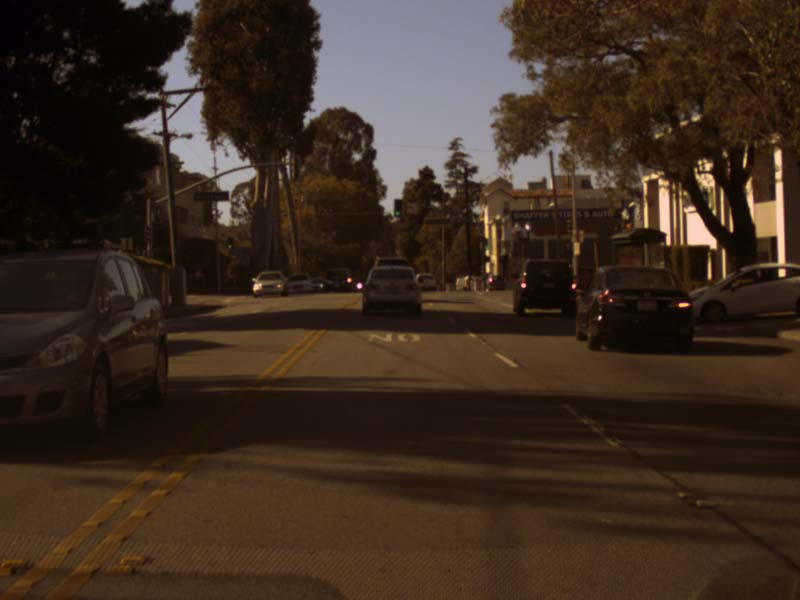Green: (394, 199, 401, 216), (227, 237, 233, 248), (482, 239, 487, 249)
